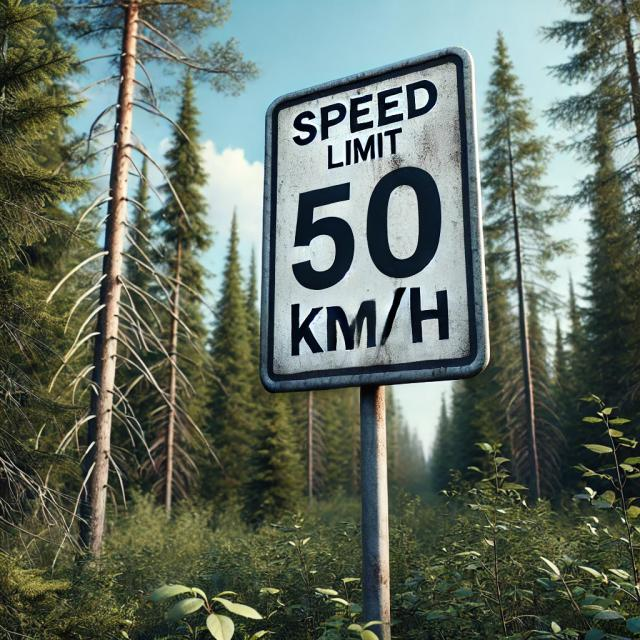Speed limit 50: (250, 50, 494, 383)
